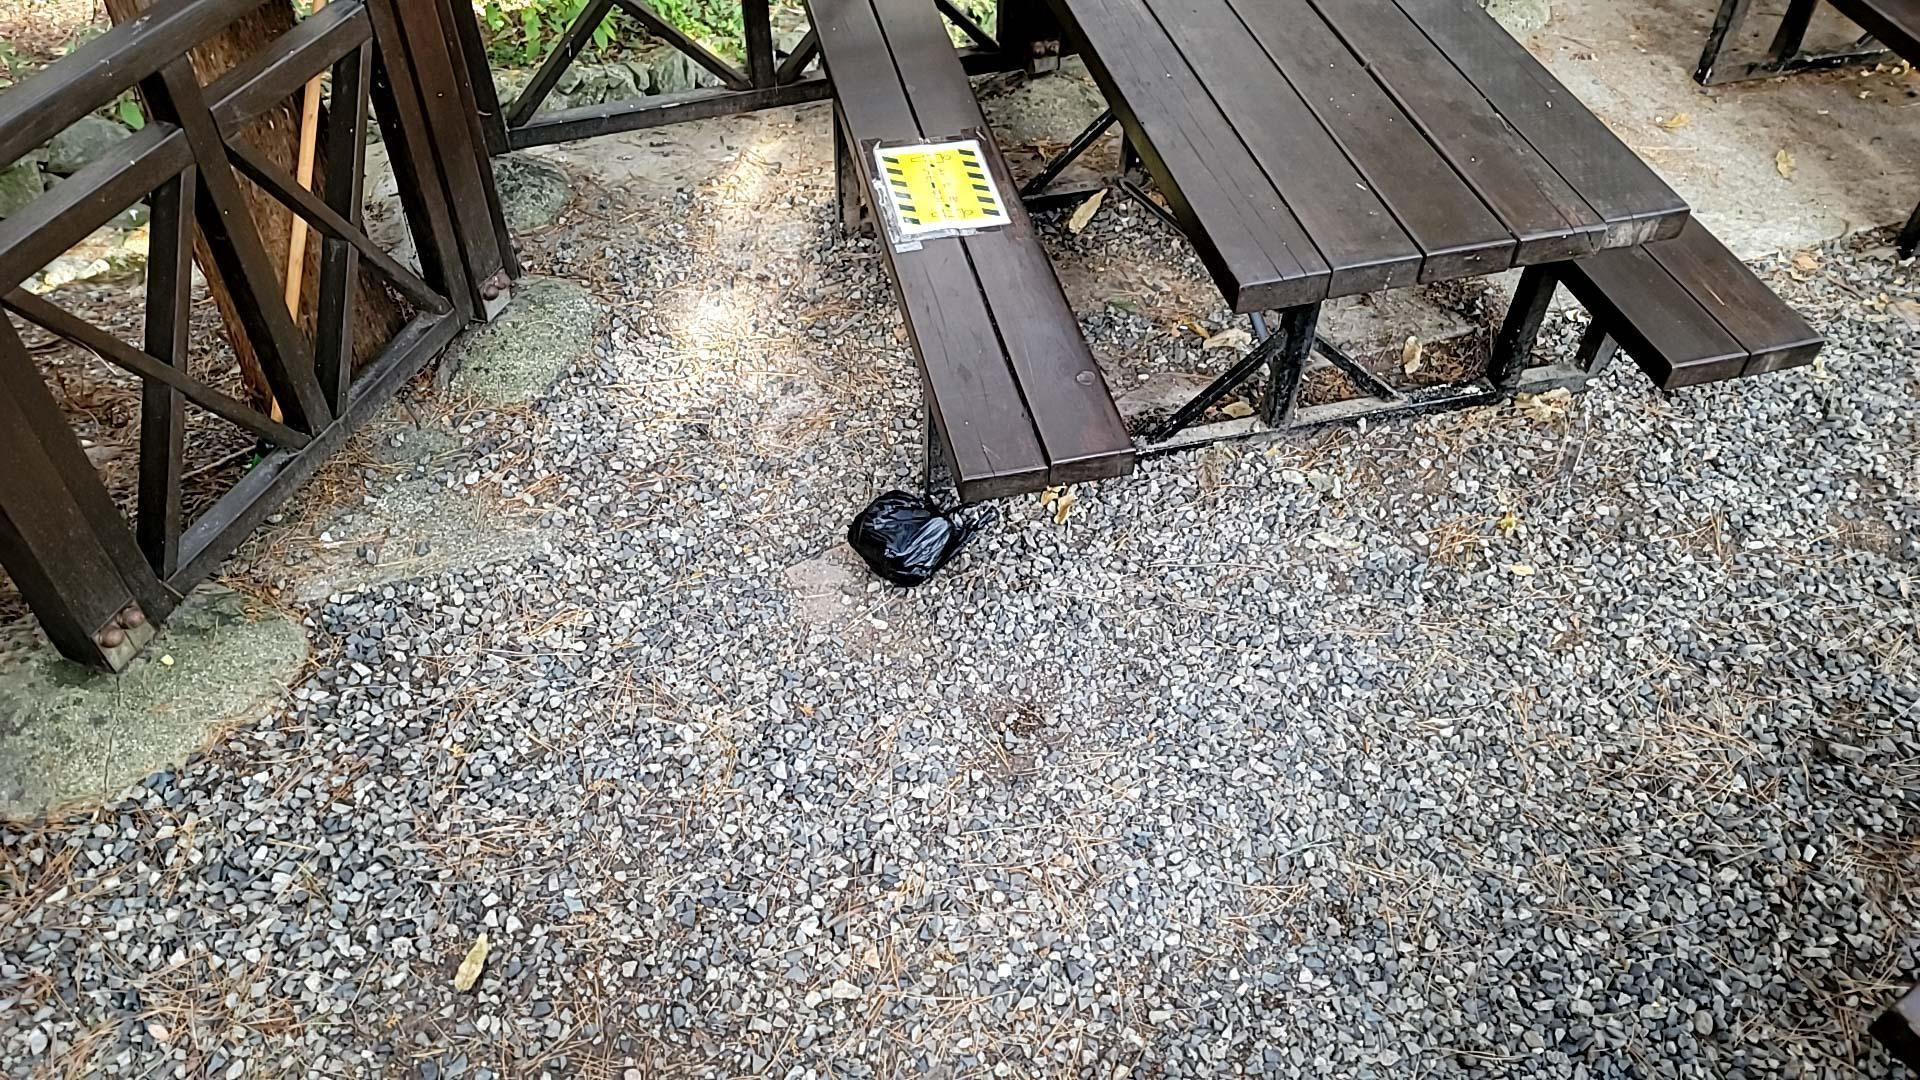black_bag: (840, 481, 985, 595)
